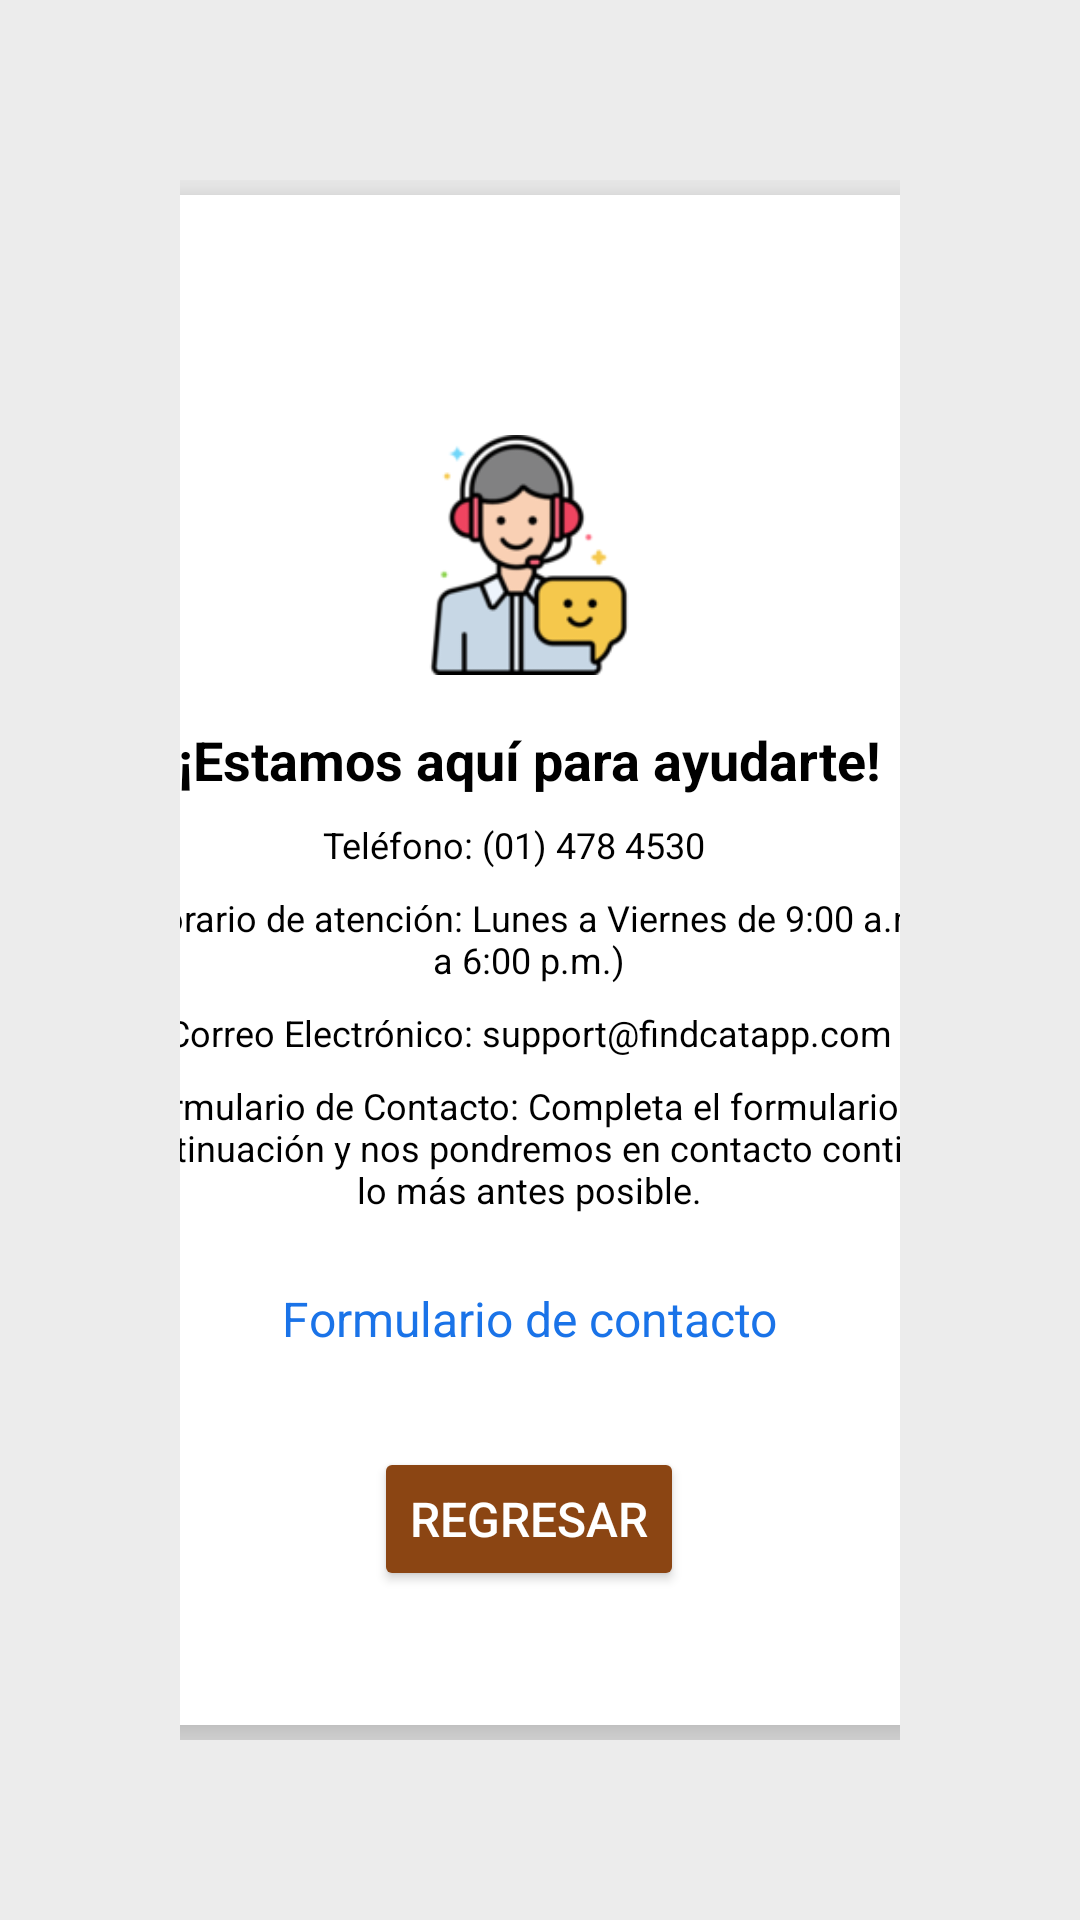

Where to tap for icons on this 1080 x 1920 app screen, as (x=x, y=y):
soporte contactenos: (x=529, y=555)
